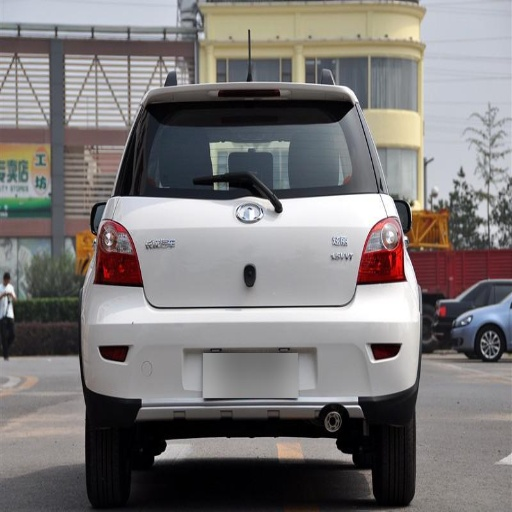back_bumper: (85, 277, 419, 418)
tailgate: (107, 197, 175, 305)
trunk: (149, 200, 388, 306)
